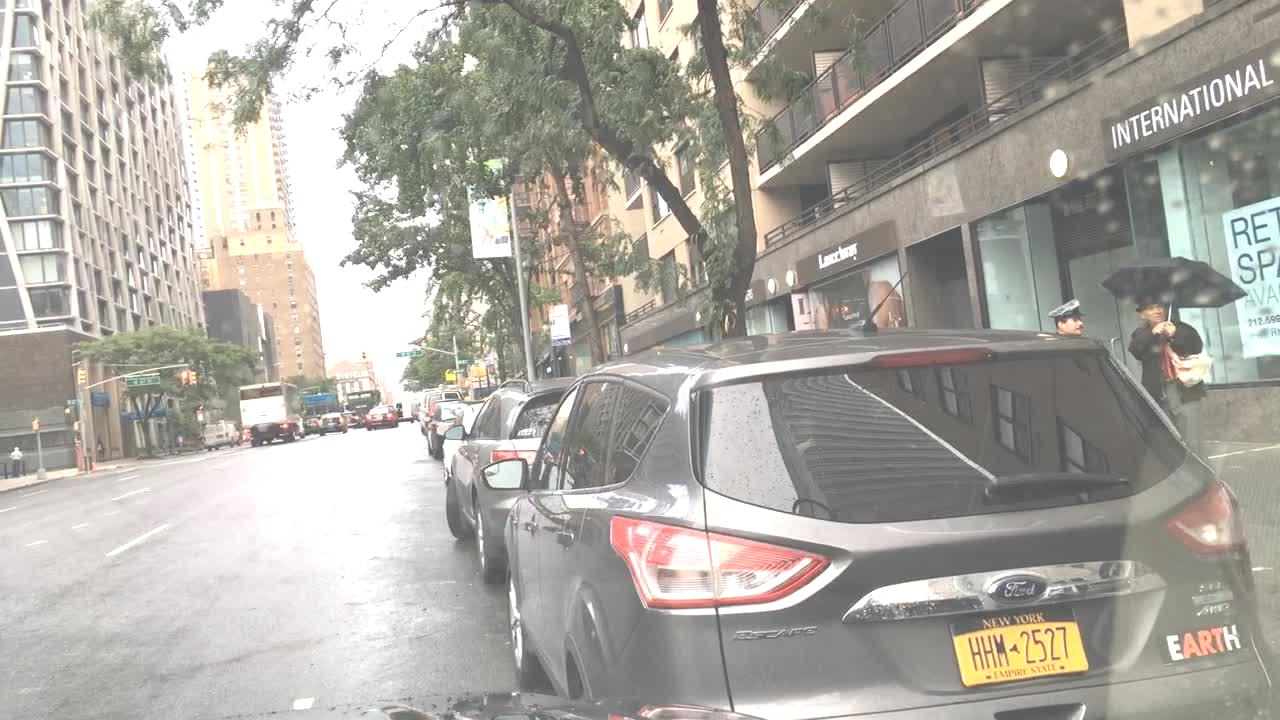ford: (968, 561, 1056, 610)
